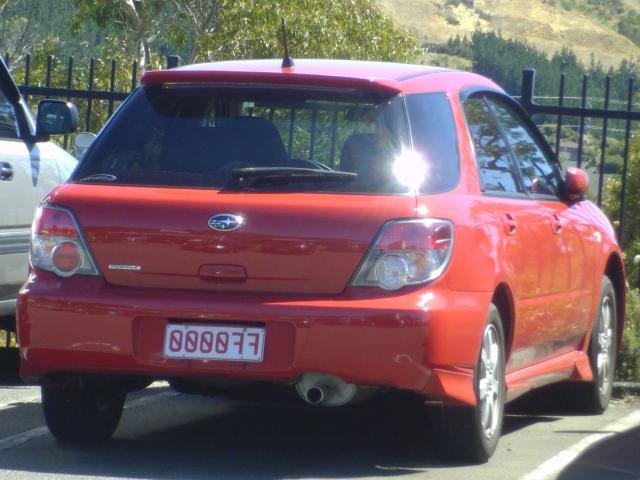Rego: (163, 324, 265, 362)
